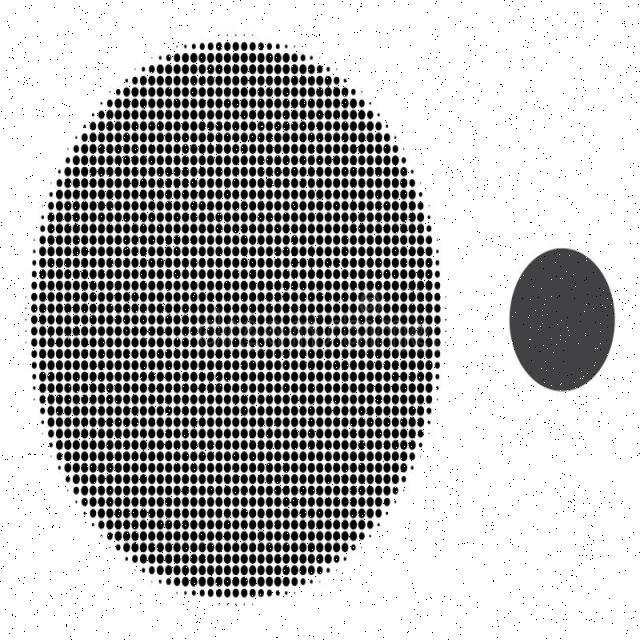Circle: (20, 32, 451, 614), (505, 246, 620, 394)
